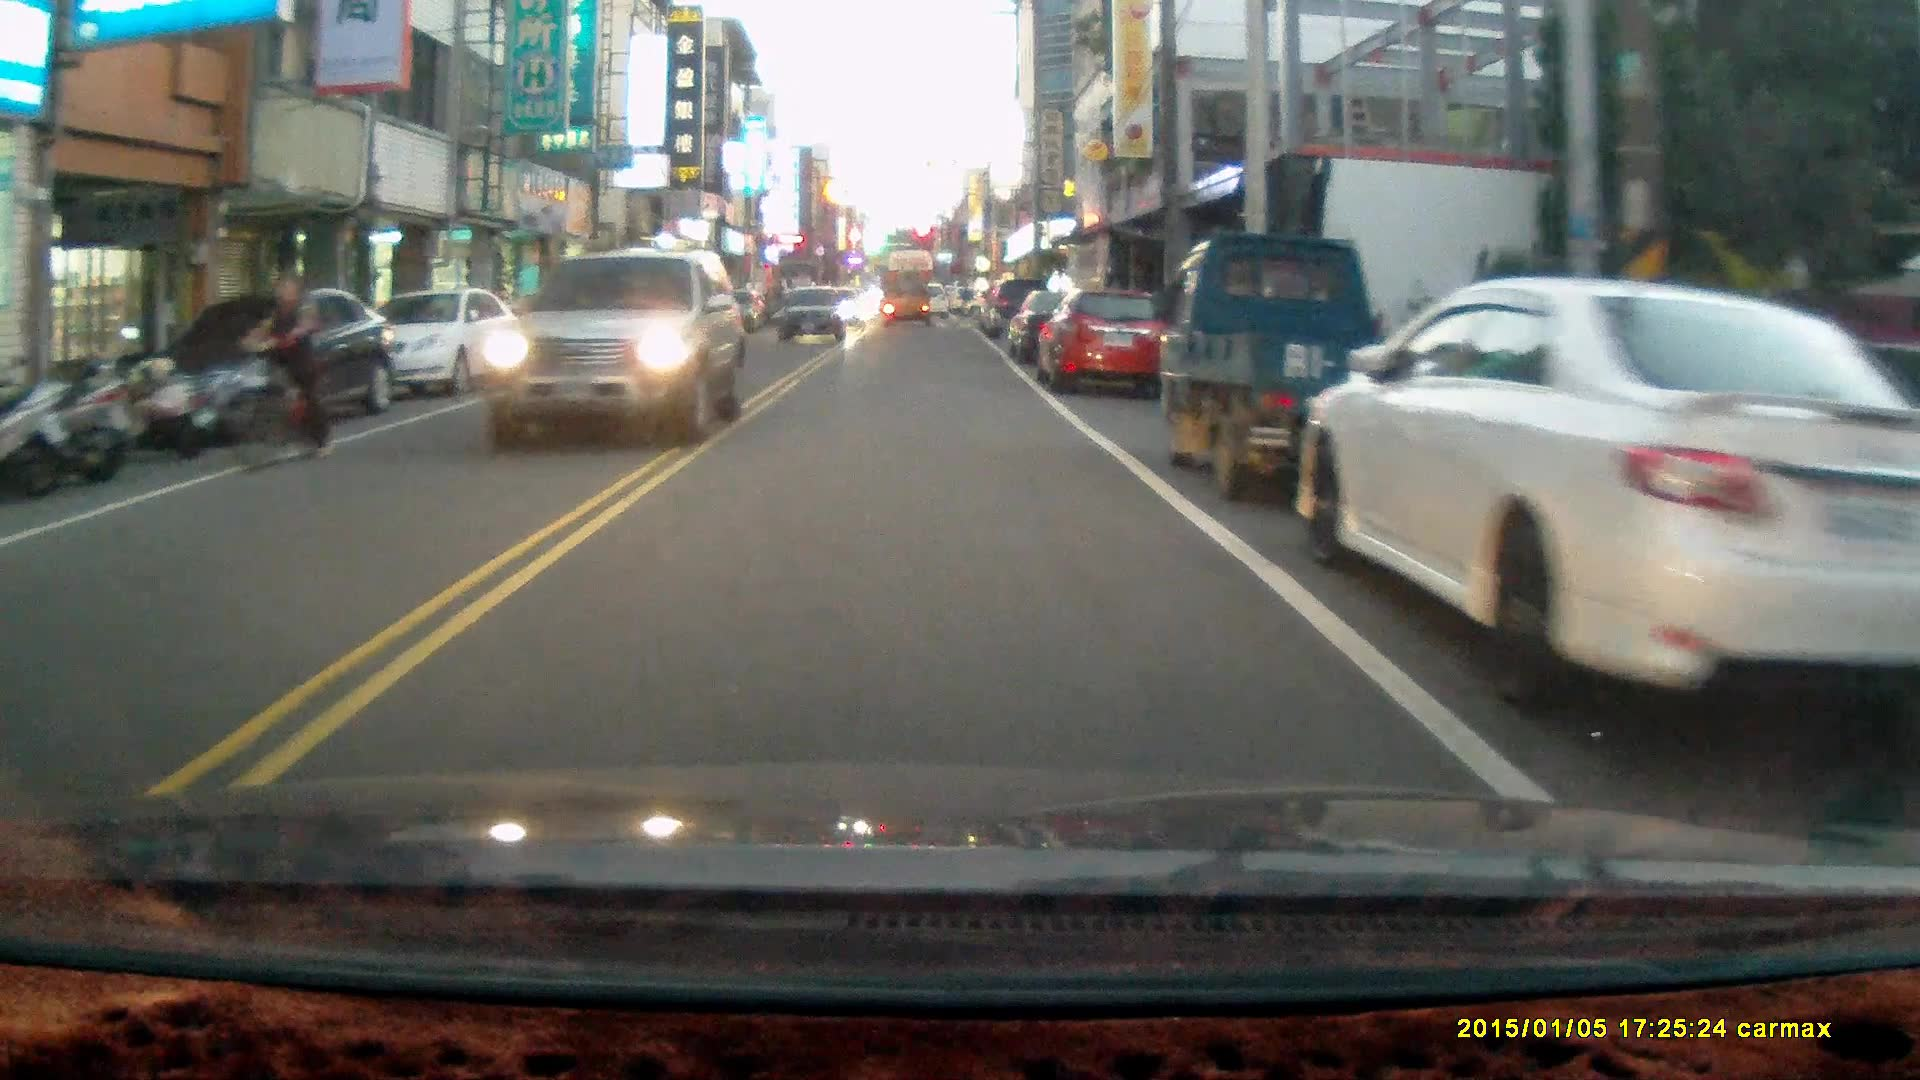rider: (233, 266, 335, 470)
vehicle: (1296, 274, 1920, 720), (1160, 227, 1455, 504), (477, 248, 747, 446), (140, 287, 390, 434), (317, 286, 508, 401), (1041, 287, 1171, 396), (776, 285, 848, 345), (880, 270, 933, 332)
